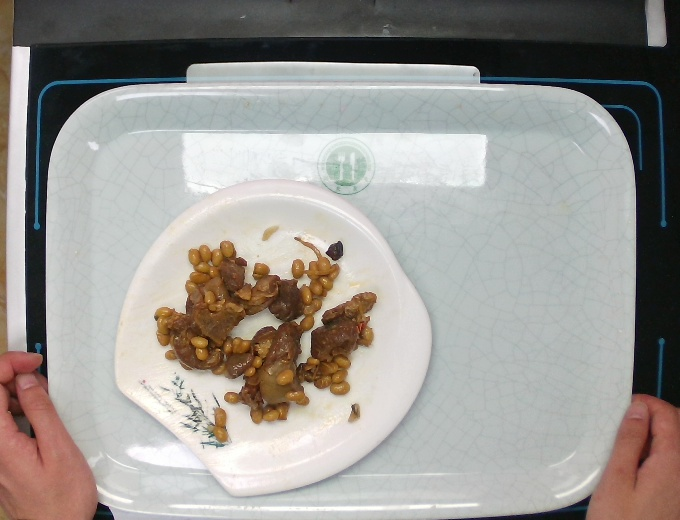JYsf-Mian_Pan: (111, 178, 438, 498)
